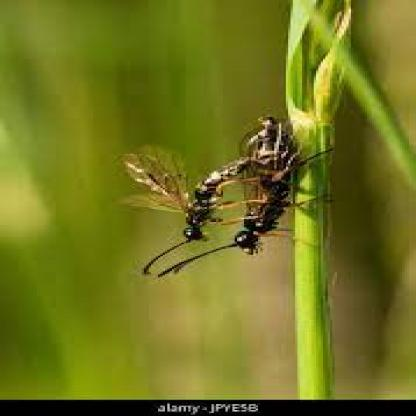sawfly: (100, 143, 258, 279), (216, 118, 335, 266)
